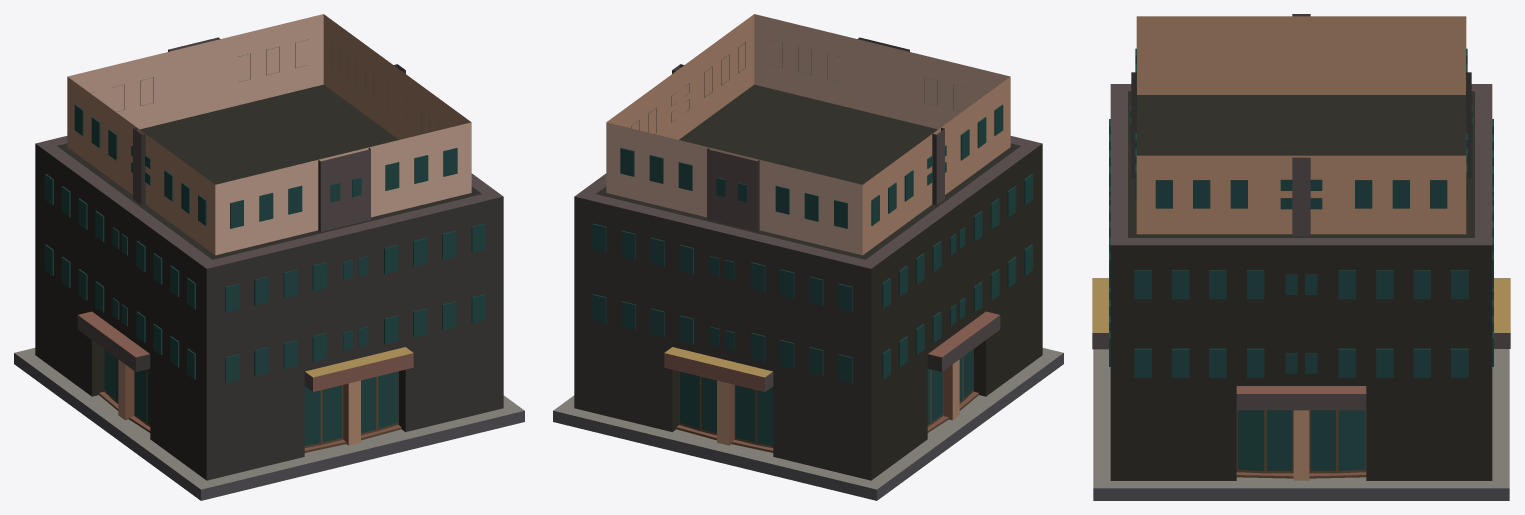
The model's file is TB_CITY_Skysc_Q_Bottom_Brown.FBX.
3 renders of one model, left to right at view 1: azimuth 30°, elevation 25°; view 2: azimuth 150°, elevation 25°; view 3: azimuth 270°, elevation 25°, orthographic. The views are drawn at different scales.
Parts seen in each view (by area): view 1: TB_CITY_Skysc_Q_Bottom_Brown; view 2: TB_CITY_Skysc_Q_Bottom_Brown; view 3: TB_CITY_Skysc_Q_Bottom_Brown.
Boxes of the visible parts, x1,y1,x2,y2 form: TB_CITY_Skysc_Q_Bottom_Brown: (14, 14, 524, 500); TB_CITY_Skysc_Q_Bottom_Brown: (553, 14, 1063, 500); TB_CITY_Skysc_Q_Bottom_Brown: (1092, 14, 1510, 500).
Size of the model in its own units: 24.12 by 20.8 by 24.12.
